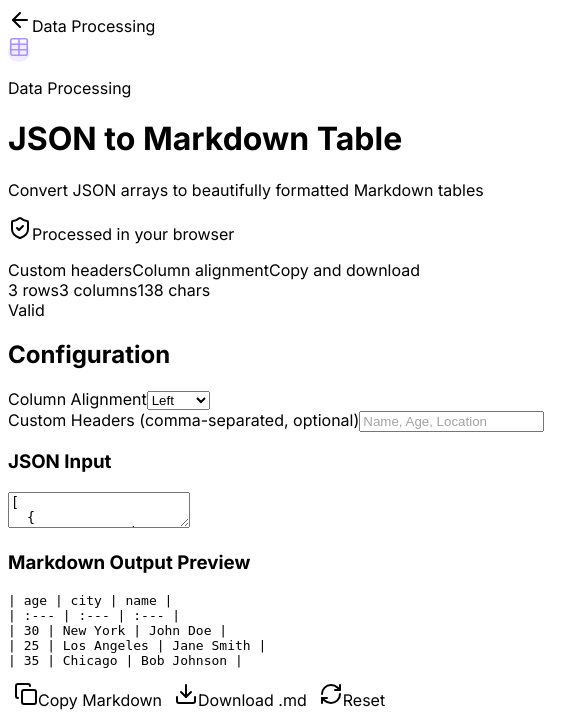
Test: JSON to Markdown Table Page - Component Tests › should show error when custom headers count does not match columns
The width and height of the screenshot is (561, 727).
Type "Only One Header" into the field with placeholder "Name, Age, Location" at coordinates (452, 421), box [359, 411, 544, 432]
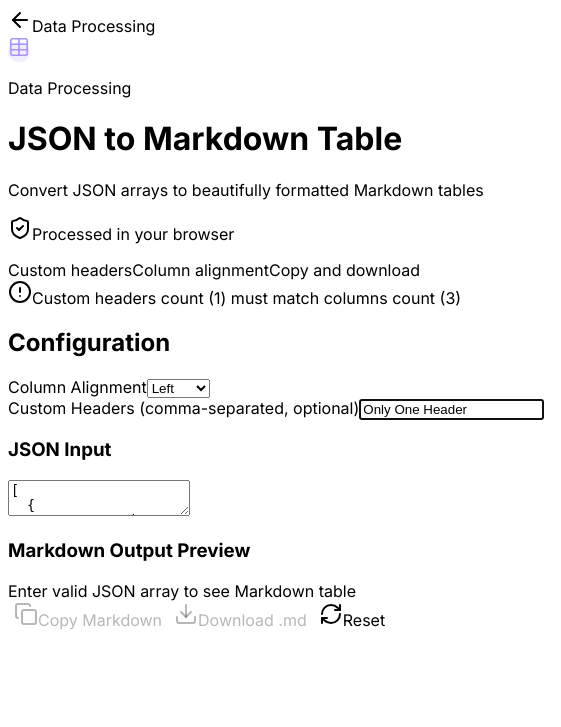
Now the text "Custom headers count (1) must match columns count (3)" is shown, box [32, 288, 461, 308]
